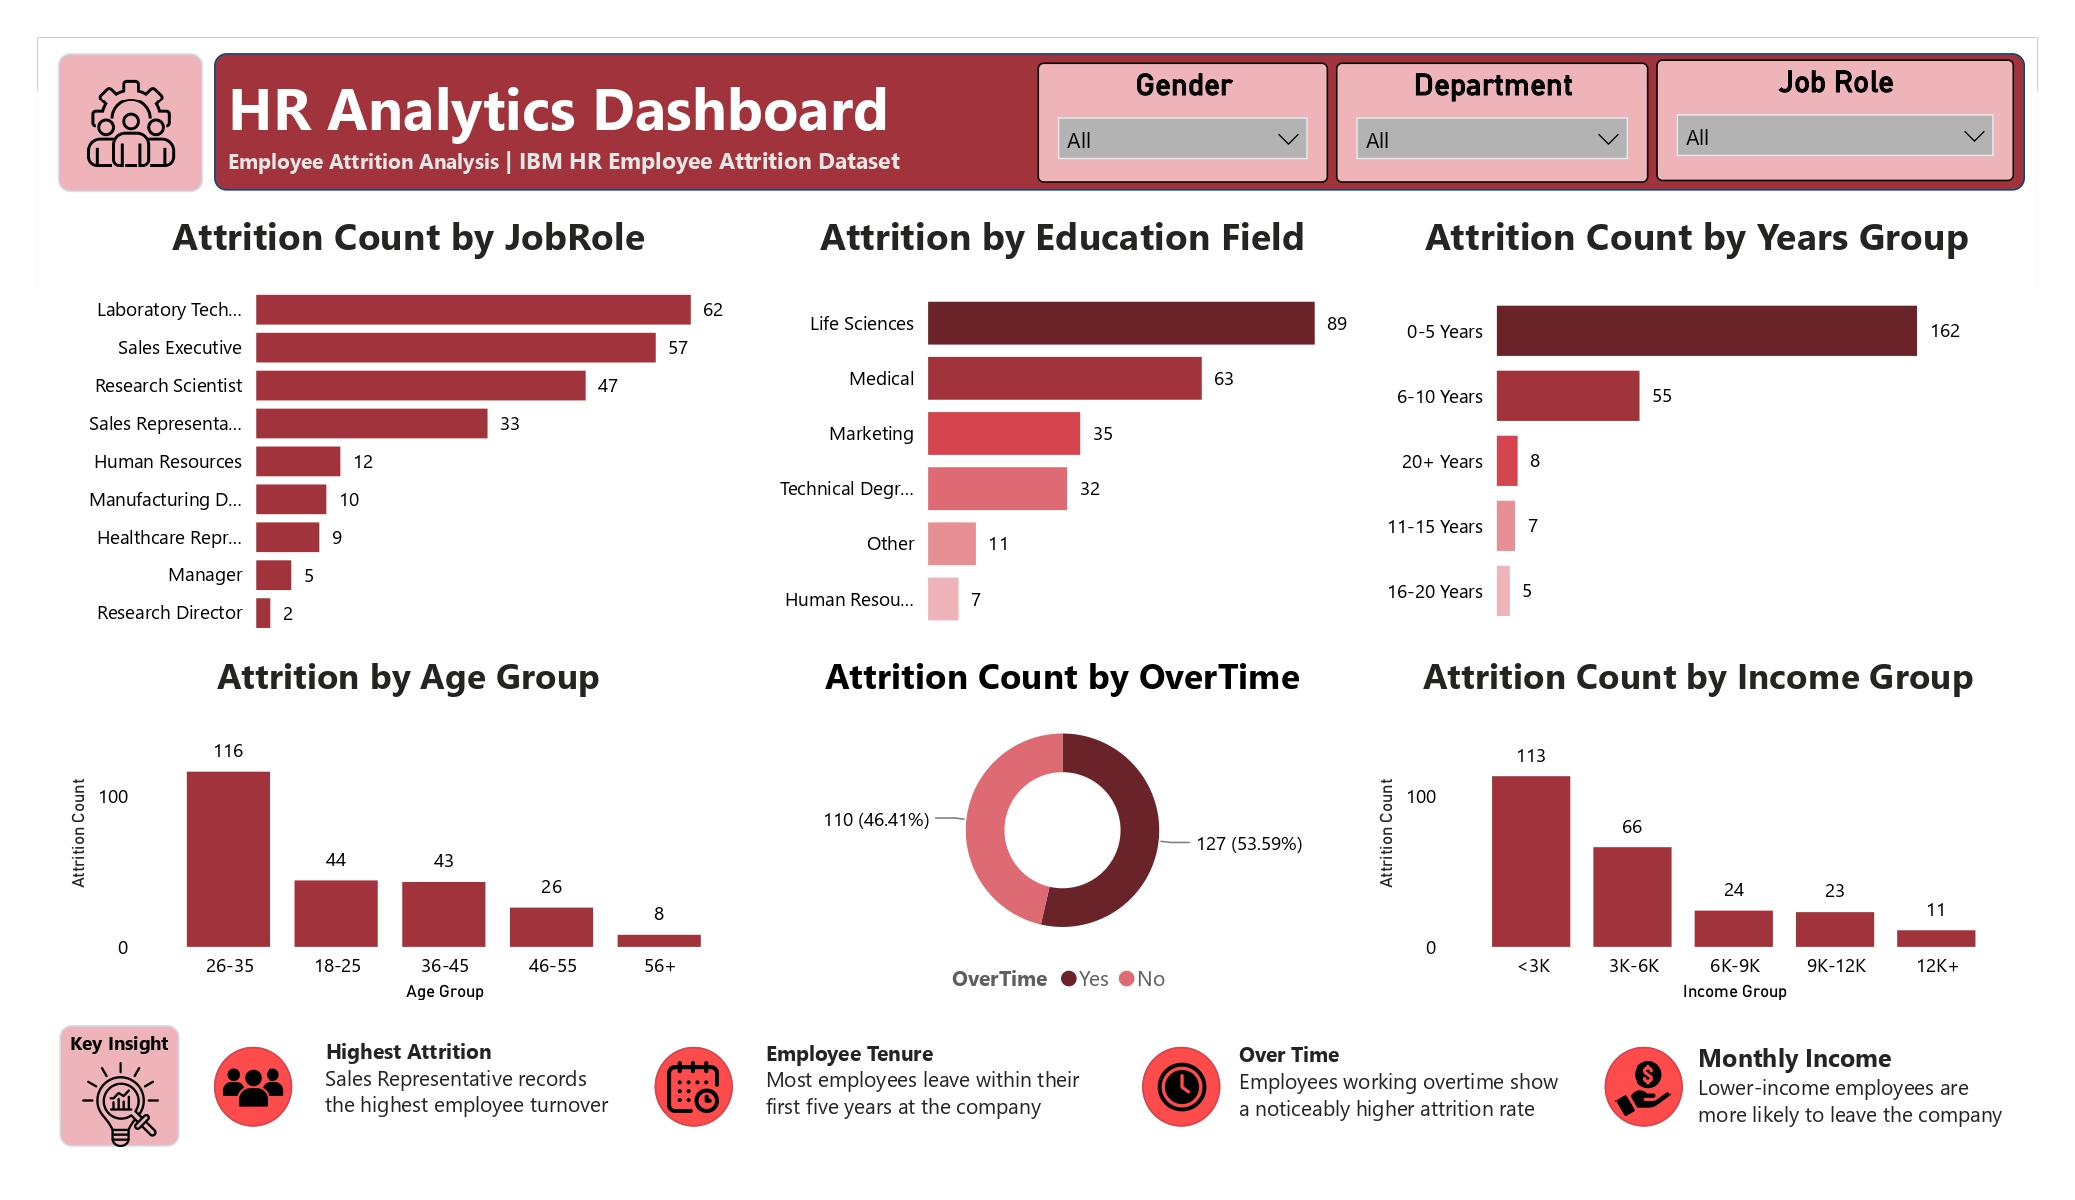

This screenshot's page, from the dashboard's own definition file:
{"tool":"powerbi","page":{"name":"Page 3","canvas":[1280,720],"ordinal":2},"visuals":[{"type":"textbox","box":[112.6,10.5,1159.9,87.7],"z":0},{"type":"textbox","box":[13.1,10.5,92.9,89],"z":1000},{"type":"image","box":[13.8,25,92.5,60],"z":2000},{"type":"slicer","title":"Gender","fields":{"Values":["Employee.Gender"]},"box":[640,15.7,185.7,77.1],"z":3000},{"type":"slicer","title":"Job Role","fields":{"Values":["Employee.JobRole"]},"box":[1036.4,13.6,228.2,78.2],"z":4000},{"type":"slicer","title":"Department","fields":{"Values":["Employee.Department"]},"box":[831.4,15.7,200,77.1],"z":5000},{"type":"textbox","box":[13.6,631.8,77.3,78.2],"z":6000},{"type":"textbox","box":[95,631.2,282.5,78.8],"z":7000},{"type":"textbox","box":[376.9,632.2,302.5,77.5],"z":8000},{"type":"textbox","box":[680,632.5,311.2,77.5],"z":9000},{"type":"textbox","box":[973.8,632.5,297.5,78.8],"z":10000},{"type":"image","title":"Key Insight","box":[15.8,635,73.4,74.9],"z":11000},{"type":"shape","box":[112.7,646.4,50,50.9],"z":12000},{"type":"shape","box":[395.5,646.4,50,50.9],"z":13000},{"type":"shape","box":[706.6,645.9,50,50.9],"z":14000},{"type":"shape","box":[1003.2,646.2,50,50.9],"z":15000},{"type":"image","box":[118,640,40,64],"z":16000},{"type":"image","box":[402,655,34,33],"z":17000},{"type":"image","box":[716,652,33,38],"z":18000},{"type":"image","box":[1010,653.4,34.6,38.9],"z":19000},{"type":"barChart","fields":{"Y":["Employee.Attrition Count"],"Category":["Employee.JobRole"]},"box":[15.7,110,442.9,282.9],"z":20000},{"type":"columnChart","title":"Attrition by Age Group","fields":{"Category":["Employee.Age Group"],"Y":["Employee.Attrition Count"]},"box":[15.7,392.9,442.9,228.6],"z":21000},{"type":"barChart","fields":{"Y":["Employee.Attrition Count"],"Category":["Employee.Years Group"]},"box":[852.9,110,418.6,282.9],"z":22000},{"type":"barChart","title":"Attrition by Education Field","fields":{"Category":["Employee.EducationField"],"Y":["Employee.Attrition Count"]},"box":[458.6,110,394.3,282.9],"z":23000},{"type":"donutChart","fields":{"Category":["Employee.OverTime"],"Y":["Employee.Attrition Count"]},"box":[458.6,392.9,394.3,228.6],"z":24000},{"type":"clusteredColumnChart","fields":{"Y":["Employee.Attrition Count"],"Category":["Employee.Income Group"]},"box":[852.9,392.9,420,228.6],"z":25000}]}

Visuals, with their boxes on the page's 1280x720 design canvas (x1, y1, x2, y2). These are canvas units, not pixel positions in the 2075x1200 screenshot, which may show the page scaled, cropped or inside an application window:
textbox: [left=113, top=10, right=1272, bottom=98]
textbox: [left=13, top=10, right=106, bottom=100]
image: [left=14, top=25, right=106, bottom=85]
"Gender" slicer: [left=640, top=16, right=826, bottom=93]
"Job Role" slicer: [left=1036, top=14, right=1265, bottom=92]
"Department" slicer: [left=831, top=16, right=1031, bottom=93]
textbox: [left=14, top=632, right=91, bottom=710]
textbox: [left=95, top=631, right=378, bottom=710]
textbox: [left=377, top=632, right=679, bottom=710]
textbox: [left=680, top=632, right=991, bottom=710]
textbox: [left=974, top=632, right=1271, bottom=711]
"Key Insight" image: [left=16, top=635, right=89, bottom=710]
shape: [left=113, top=646, right=163, bottom=697]
shape: [left=396, top=646, right=446, bottom=697]
shape: [left=707, top=646, right=757, bottom=697]
shape: [left=1003, top=646, right=1053, bottom=697]
image: [left=118, top=640, right=158, bottom=704]
image: [left=402, top=655, right=436, bottom=688]
image: [left=716, top=652, right=749, bottom=690]
image: [left=1010, top=653, right=1045, bottom=692]
barChart - Employee.Attrition Count x Employee.JobRole: [left=16, top=110, right=459, bottom=393]
"Attrition by Age Group" columnChart: [left=16, top=393, right=459, bottom=622]
barChart - Employee.Attrition Count x Employee.Years Group: [left=853, top=110, right=1272, bottom=393]
"Attrition by Education Field" barChart: [left=459, top=110, right=853, bottom=393]
donutChart - Employee.OverTime x Employee.Attrition Count: [left=459, top=393, right=853, bottom=622]
clusteredColumnChart - Employee.Attrition Count x Employee.Income Group: [left=853, top=393, right=1273, bottom=622]
